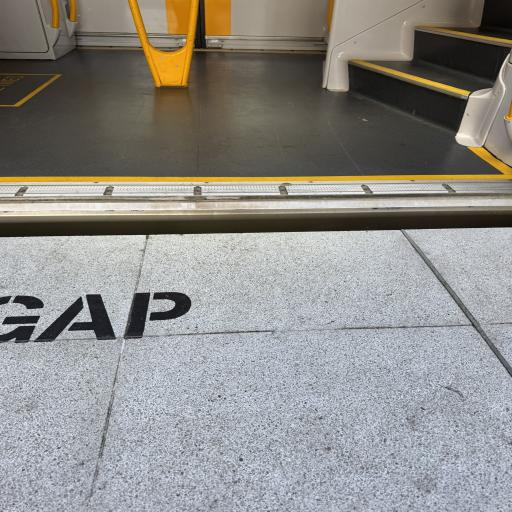gap: (0, 214, 512, 236)
